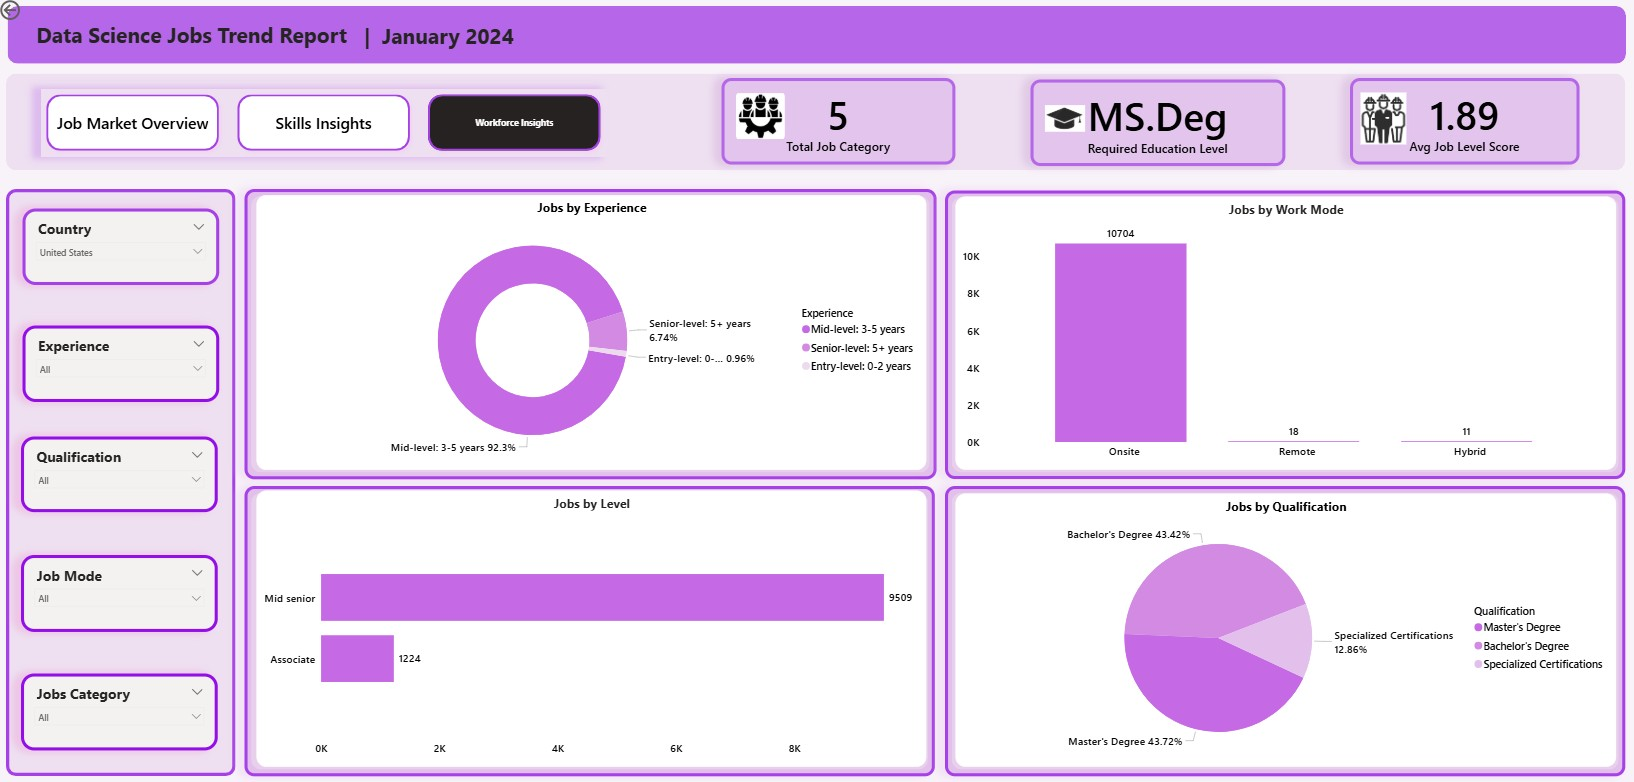

This screenshot's page, from the dashboard's own definition file:
{"tool":"powerbi","page":{"name":"Workforce Insights","canvas":[2500,1200],"ordinal":2},"visuals":[{"type":"shape","box":[16,14,2468,88],"z":0},{"type":"textbox","box":[37.5,30,520,55],"z":1000},{"type":"shape","box":[14.3,116.7,2469,147.6],"z":2000},{"type":"shape","box":[14.3,292.9,350,895.2],"z":3000},{"type":"actionButton","box":[0,0,100,40],"z":4000},{"type":"shape","box":[377.5,292.5,1055,442.5],"z":5000},{"type":"donutChart","title":"Experience Requirement","fields":{"Category":["public vw_experience_breakdown.Experience"],"Y":["Sum(public vw_jobs_by_category.Jobs Count)"]},"box":[385,757.5,1020,417.5],"z":6000},{"type":"slicer","fields":{"Values":["public vw_jobs_by_country.Country"]},"box":[40,321.7,300,116.7],"z":7000},{"type":"slicer","fields":{"Values":["public vw_experience_breakdown.Experience"]},"box":[38.3,500,300,116.7],"z":8000},{"type":"slicer","fields":{"Values":["public vw_jobs_by_category.Jobs Category"]},"box":[37.5,1032.5,300,117.5],"z":9000},{"type":"slicer","fields":{"Values":["public vw_jobs_by_mode.Job Mode"]},"box":[37.5,850,300,117.5],"z":10000},{"type":"slicer","fields":{"Values":["public vw_edu_requirement.Qualification"]},"box":[37.5,670,300,115],"z":11000},{"type":"pageNavigator","box":[65.9,138.6,863.6,104.5],"z":12000},{"type":"shape","box":[377.5,745,1052.5,442.5],"z":13000},{"type":"shape","box":[1445,745,1037.5,442.5],"z":14000},{"type":"shape","box":[1445,295,1037.5,440],"z":15000},{"type":"columnChart","title":"Jobs by Work Mode","fields":{"Category":["public vw_jobs_by_mode.Job Mode"],"Y":["Sum(public vw_jobs_by_mode.Jobs Count)"]},"box":[1461.9,304.8,1007.1,416.7],"z":16000},{"type":"barChart","title":"Jobs  by Level","fields":{"Category":["public vw_jobs_by_level.Job Level"],"Y":["Sum(public vw_jobs_by_level.Jobs Count)"]},"box":[395.2,752.4,1021.4,421.4],"z":17000},{"type":"pieChart","title":"Jobs  by Qualification","fields":{"Category":["public vw_edu_requirement.Qualification"],"Y":["Sum(public vw_edu_requirement.Jobs Count)"]},"box":[1461.9,757.1,1007.1,416.7],"z":18000},{"type":"donutChart","title":"Jobs  by Experience","fields":{"Category":["public vw_experience_breakdown.Experience"],"Y":["Sum(public vw_experience_breakdown.Jobs Count)"]},"box":[395.2,302.4,1021.4,419],"z":19000},{"type":"card","fields":{"Values":["Table.Total Job Category"]},"box":[1104.5,122.7,356.8,131.8],"z":20000},{"type":"textbox","box":[540,32.5,267.5,52.5],"z":21000},{"type":"card","fields":{"Values":["Table.Avg Job Level Score"]},"box":[2063.6,122.7,350,131.8],"z":22000},{"type":"image","box":[2063.6,138.6,102.3,90.9],"z":23000},{"type":"image","box":[1120.5,136.4,86.4,88.6],"z":24000},{"type":"card","fields":{"Values":["Table.Top Education Level"]},"box":[1575,125,388.6,131.8],"z":25000},{"type":"image","box":[1590.9,138.6,72.7,90.9],"z":26000}]}

Visuals, with their boxes in screenshot pixels (x1, y1, x2, y2), scaled from the page's 2500x1200 canvas onto the 1634x782 screenshot:
shape: [10,9,1624,66]
textbox: [25,20,364,55]
shape: [9,76,1623,172]
shape: [9,191,238,774]
actionButton: [0,0,65,26]
shape: [247,191,936,479]
"Experience Requirement" donutChart: [252,494,918,766]
slicer - public vw_jobs_by_country.Country: [26,210,222,286]
slicer - public vw_experience_breakdown.Experience: [25,326,221,402]
slicer - public vw_jobs_by_category.Jobs Category: [25,673,221,749]
slicer - public vw_jobs_by_mode.Job Mode: [25,554,221,630]
slicer - public vw_edu_requirement.Qualification: [25,437,221,512]
pageNavigator: [43,90,608,158]
shape: [247,485,935,774]
shape: [944,485,1623,774]
shape: [944,192,1623,479]
"Jobs by Work Mode" columnChart: [955,199,1614,470]
"Jobs  by Level" barChart: [258,490,926,765]
"Jobs  by Qualification" pieChart: [955,493,1614,765]
"Jobs  by Experience" donutChart: [258,197,926,470]
card - Table.Total Job Category: [722,80,955,166]
textbox: [353,21,528,55]
card - Table.Avg Job Level Score: [1349,80,1578,166]
image: [1349,90,1416,150]
image: [732,89,789,147]
card - Table.Top Education Level: [1029,81,1283,167]
image: [1040,90,1087,150]
